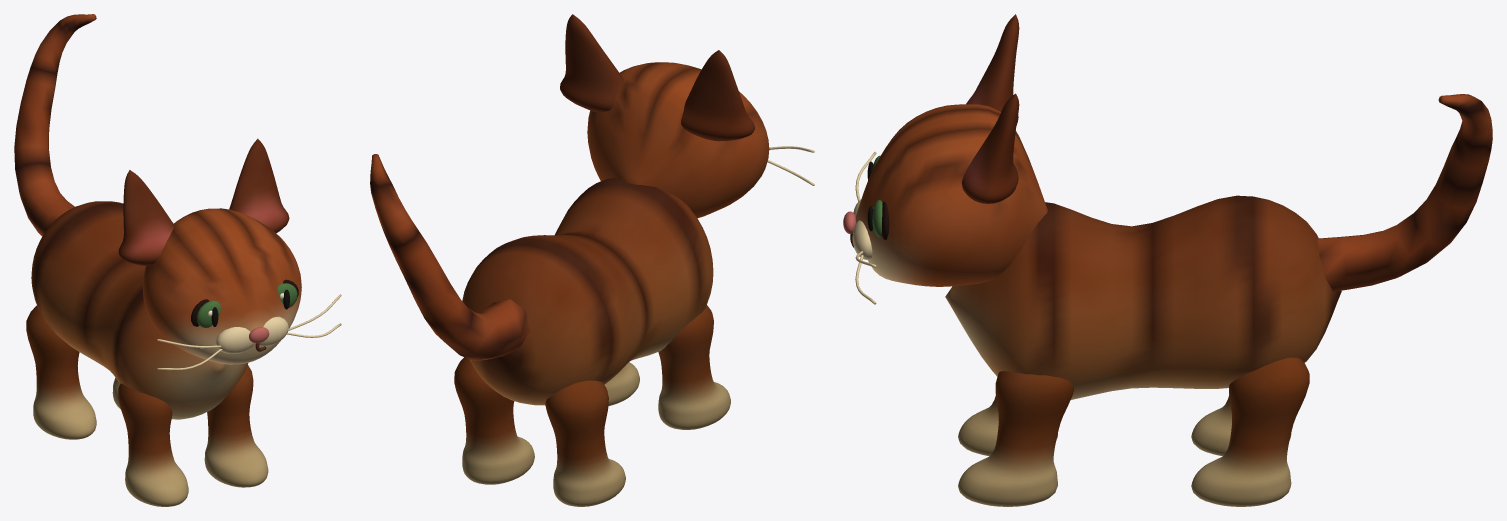
Rendered from Cat.fbx.
The picture shows the model from 3 angles, left to right: view 1: azimuth 30°, elevation 25°; view 2: azimuth 150°, elevation 25°; view 3: azimuth 270°, elevation 25°; orthographic projection. The views are drawn at different scales.
Visible parts, largest first — view 1: HeadMesh.001, BodyMesh.001, TailMesh.001, Leg_FLMesh, Leg_BLMesh, Leg_FRMesh; view 2: BodyMesh.001, HeadMesh.001, TailMesh.001, Leg_BLMesh, Leg_BRMesh, Leg_FLMesh, Leg_FRMesh; view 3: BodyMesh.001, HeadMesh.001, TailMesh.001, Leg_BRMesh, Leg_FRMesh, Leg_FLMesh, Leg_BLMesh.
Boxes of the visible parts, x1,y1,x2,y2 form: HeadMesh.001: [118, 138, 341, 370]; BodyMesh.001: [31, 201, 248, 419]; TailMesh.001: [14, 14, 96, 236]; Leg_FLMesh: [118, 383, 188, 506]; Leg_BLMesh: [26, 305, 96, 439]; Leg_FRMesh: [204, 365, 268, 487]; BodyMesh.001: [462, 177, 713, 405]; HeadMesh.001: [560, 14, 814, 218]; TailMesh.001: [370, 154, 529, 360]; Leg_BLMesh: [545, 380, 625, 506]; Leg_BRMesh: [454, 357, 534, 484]; Leg_FLMesh: [658, 305, 730, 429]; Leg_FRMesh: [604, 362, 639, 406]; BodyMesh.001: [945, 195, 1341, 399]; HeadMesh.001: [843, 14, 1047, 304]; TailMesh.001: [1317, 94, 1492, 291]; Leg_BRMesh: [1191, 357, 1309, 506]; Leg_FRMesh: [958, 371, 1073, 506]; Leg_FLMesh: [958, 395, 1057, 456]; Leg_BLMesh: [1191, 395, 1291, 456].
Bounding box in the file's own units: 46.23 × 80.6 × 111.
